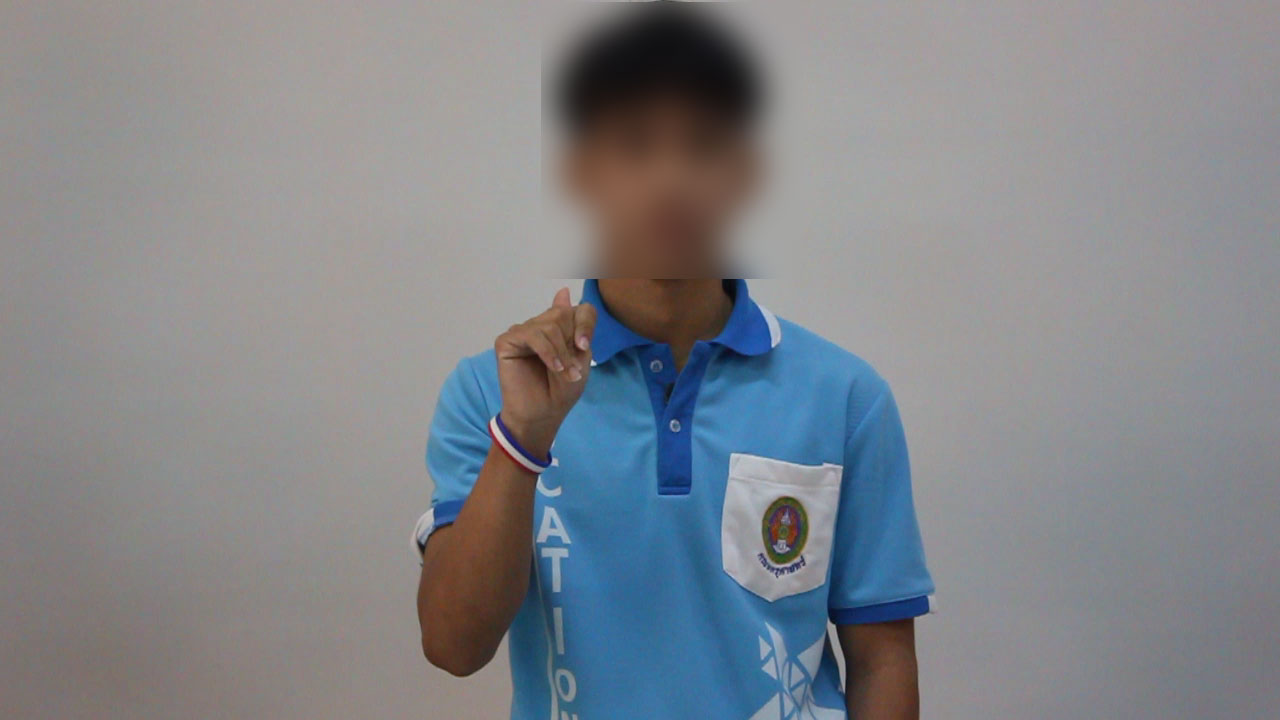tor: (481, 274, 623, 458)
